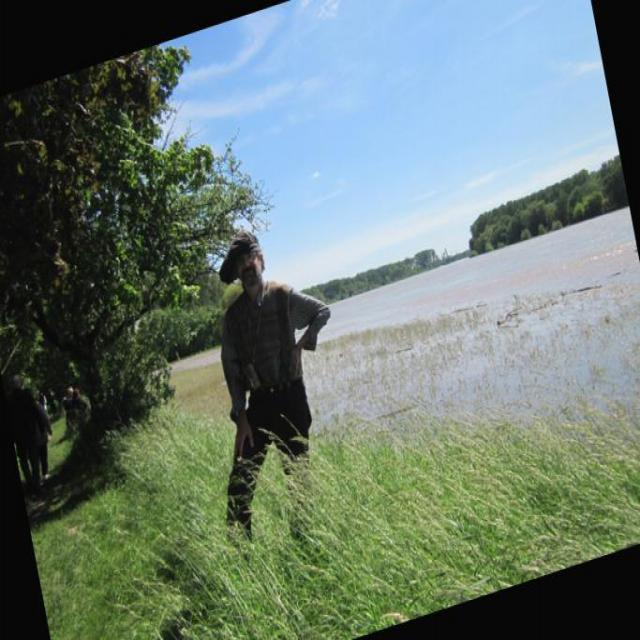flood: (294, 187, 639, 523)
